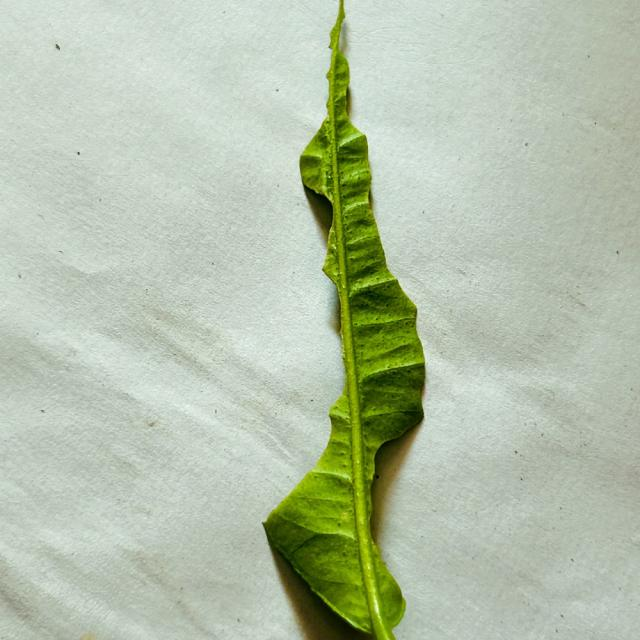Deficiency Leaf: (288, 183, 339, 472), (371, 421, 422, 559)
Lemon: (263, 0, 425, 639)
